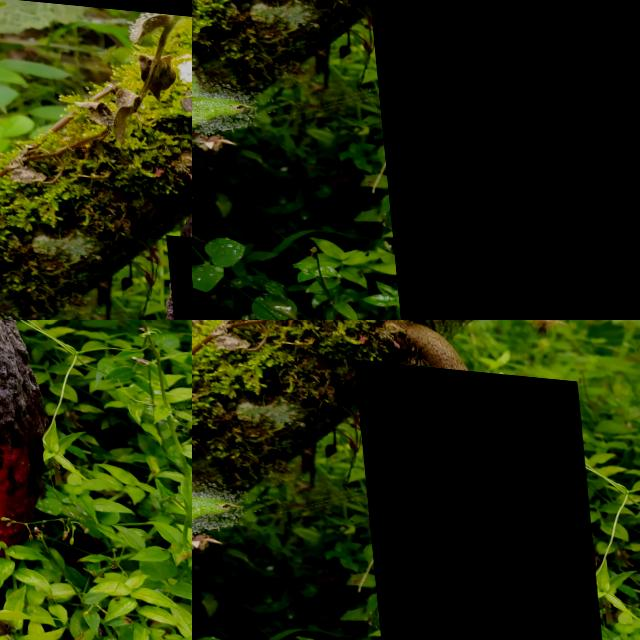Fitoftora: (359, 0, 640, 320), (350, 355, 601, 640)
